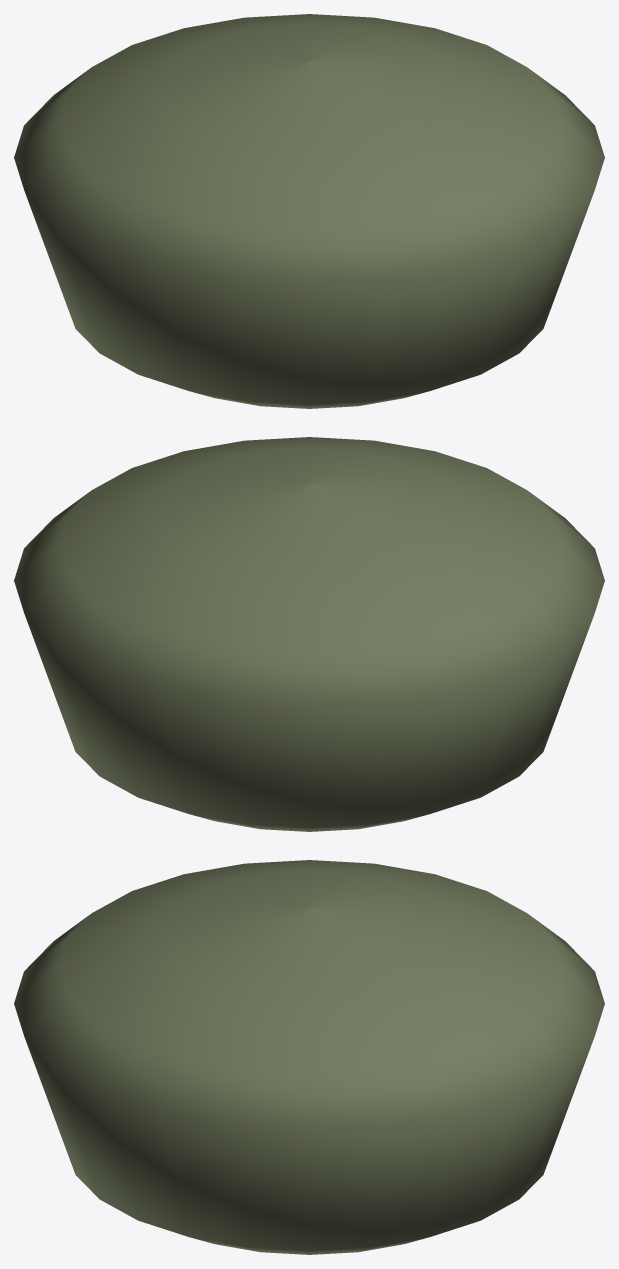
The model's file is cannon-shell.glb.
The picture shows the model from 3 angles, top to bottom: view 1: azimuth 30°, elevation 25°; view 2: azimuth 150°, elevation 25°; view 3: azimuth 270°, elevation 25°; orthographic projection.
Visible parts, largest first — view 1: warhead; view 2: warhead; view 3: warhead.
Part boxes in pixels (<box>): warhead: <box>14,14,604,408</box>; warhead: <box>14,437,604,831</box>; warhead: <box>14,860,604,1254</box>.
Size of the model in its own units: 2 by 1 by 2.
